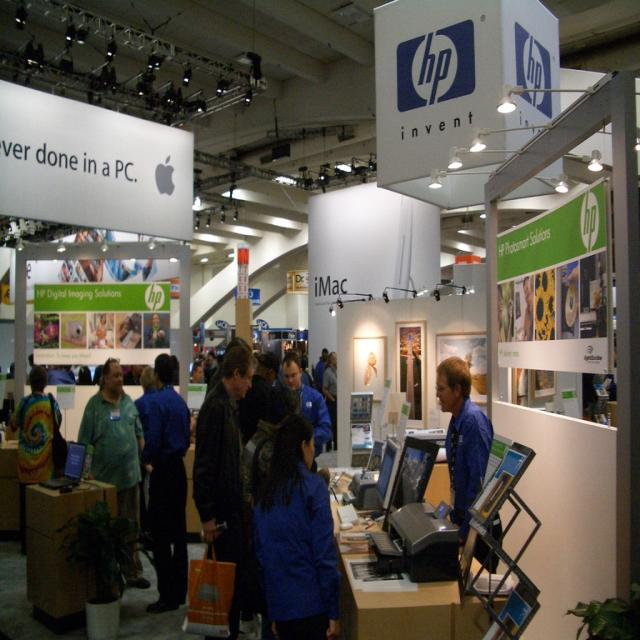HP: (395, 19, 479, 115), (514, 23, 556, 119), (577, 189, 603, 256), (145, 285, 165, 315)
